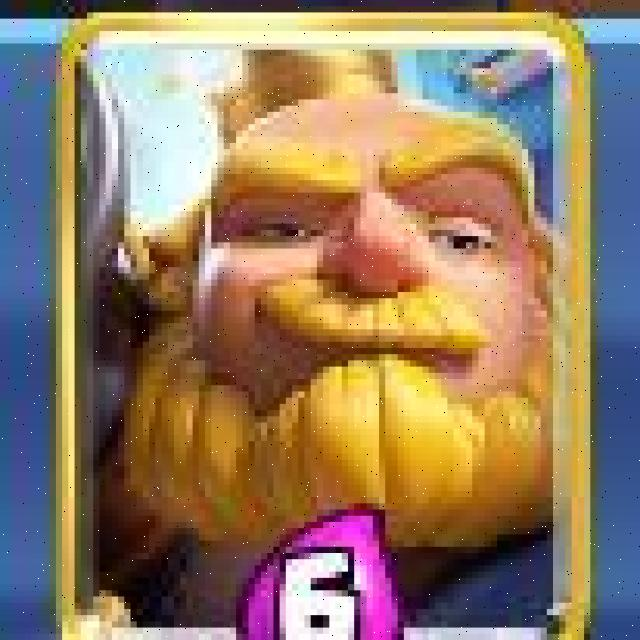Royal_Giant: (55, 13, 596, 640)
